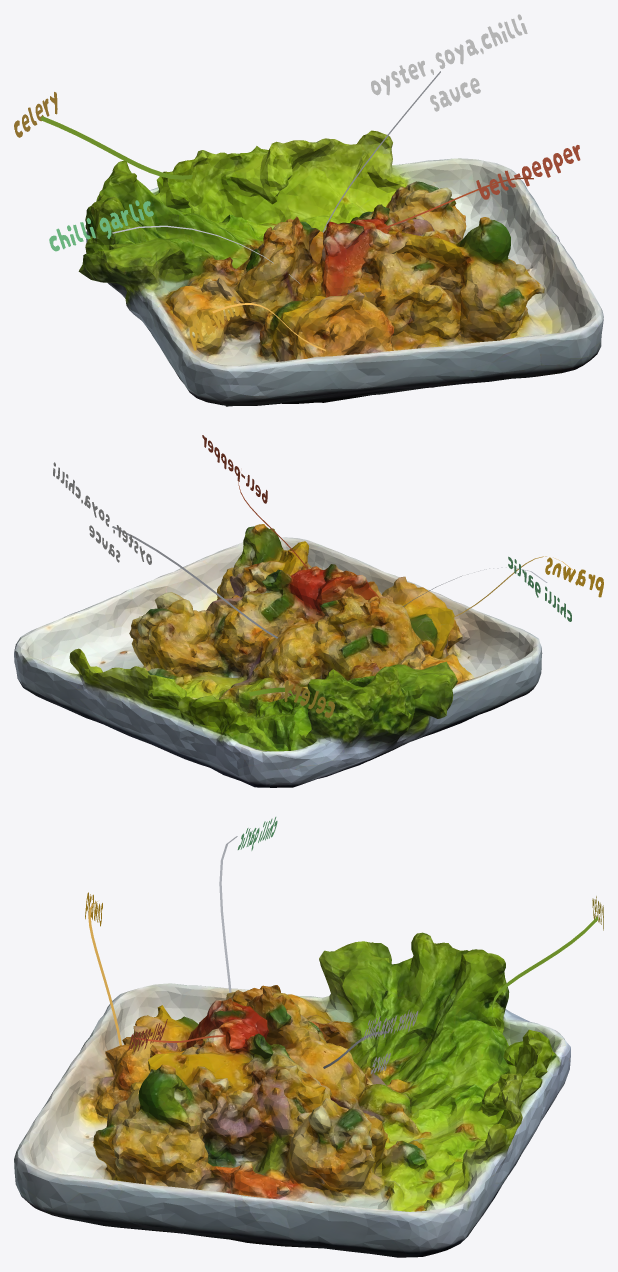
The model's file is chicken_meatball.glb.
3 views of the same model, one above another, from view 1: azimuth 30°, elevation 25°; view 2: azimuth 150°, elevation 25°; view 3: azimuth 270°, elevation 25° (orthographic). The views are drawn at different scales.
Visible parts, largest first — view 1: Mesh_0, Text.003, Text.004, Text.002, BézierCurve, Text.001, Text; view 2: Mesh_0, Text.003, Text.001, Text, Text.002, Text.004, BézierCurve.003; view 3: Mesh_0, Text.003.
Boxes of the visible parts, bbox=[...] form: Mesh_0: bbox=[78, 130, 603, 405]; Text.003: bbox=[371, 14, 527, 111]; Text.004: bbox=[49, 200, 153, 251]; Text.002: bbox=[476, 145, 580, 199]; BézierCurve: bbox=[40, 116, 192, 179]; Text.001: bbox=[189, 296, 239, 350]; Text: bbox=[14, 92, 57, 137]; Mesh_0: bbox=[14, 524, 542, 787]; Text.003: bbox=[53, 462, 151, 564]; Text.001: bbox=[545, 557, 603, 597]; Text: bbox=[284, 680, 334, 717]; Text.002: bbox=[202, 435, 267, 503]; Text.004: bbox=[508, 556, 571, 621]; BézierCurve.003: bbox=[112, 526, 278, 638]; Mesh_0: bbox=[14, 932, 570, 1257]; Text.003: bbox=[362, 1009, 418, 1074].
Size of the model in its own units: 0.9782 by 0.3991 by 0.8674.
11 materials, 1 textured.
